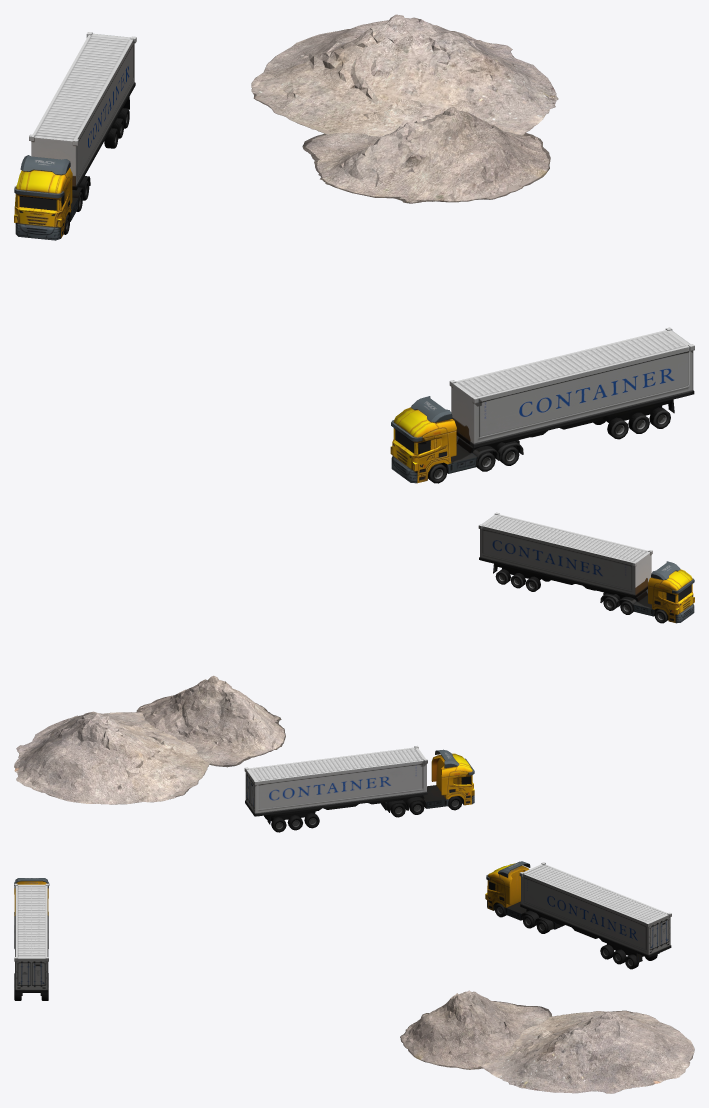
The model's file is Asset_Fix_Sc1_V1.fbx.
The picture shows the model from 3 angles, top to bottom: view 1: azimuth 30°, elevation 25°; view 2: azimuth 150°, elevation 25°; view 3: azimuth 270°, elevation 25°; orthographic projection. The views are drawn at different scales.
Parts seen in each view (by area): view 1: Sand, Truck2, Sand1, Truck; view 2: Sand, Truck, Truck2, Sand1; view 3: Sand, Truck, Sand1, Truck2.
Boxes of the visible parts, x1=… form: Sand: x1=251, y1=14, x2=558, y2=142; Truck2: x1=390, y1=327, x2=694, y2=483; Sand1: x1=302, y1=106, x2=550, y2=203; Truck: x1=14, y1=32, x2=136, y2=240; Sand: x1=14, y1=711, x2=209, y2=804; Truck: x1=244, y1=746, x2=474, y2=832; Truck2: x1=478, y1=512, x2=694, y2=623; Sand1: x1=136, y1=675, x2=285, y2=767; Sand: x1=480, y1=1010, x2=694, y2=1093; Truck: x1=485, y1=861, x2=671, y2=969; Sand1: x1=400, y1=990, x2=551, y2=1069; Truck2: x1=14, y1=878, x2=49, y2=1000.
Bounding box in the file's own units: 4055 × 520 × 6048.
2 materials, 2 textured.
